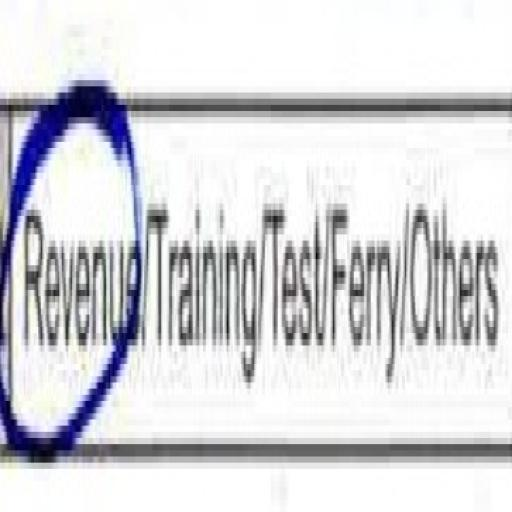check: (0, 18, 145, 512)
